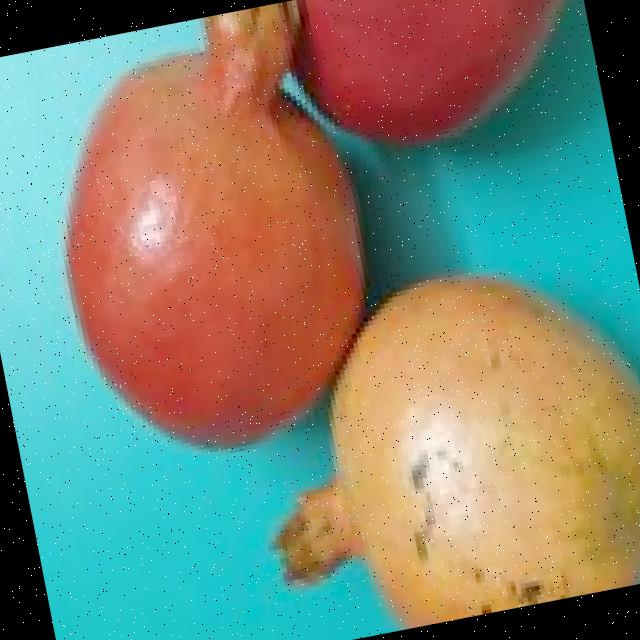Good_Pomegranate 50-60-days: (13, 0, 406, 478), (222, 231, 640, 640)
